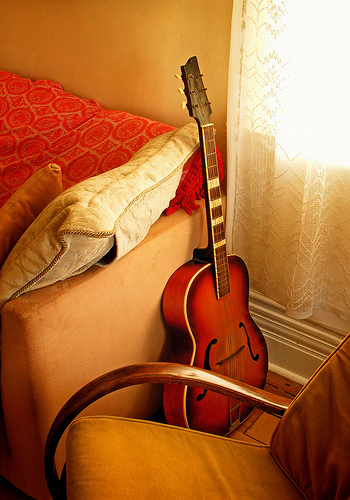guitar: (164, 57, 270, 438)
